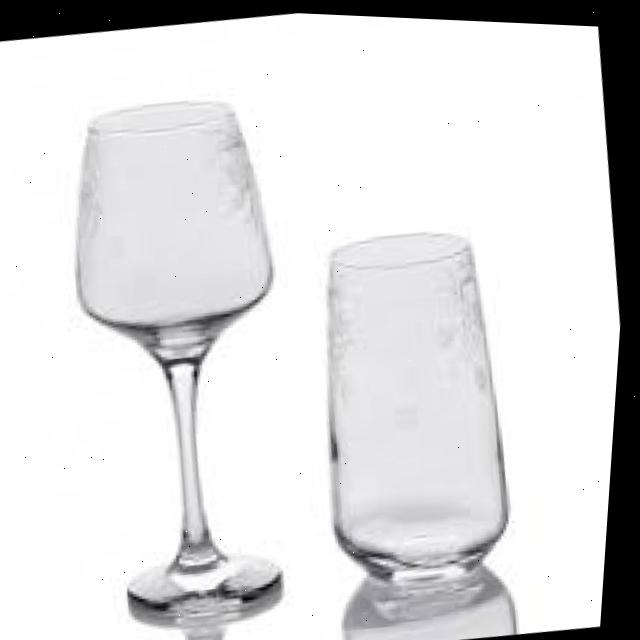Dry: (36, 82, 335, 636), (298, 214, 541, 589)
